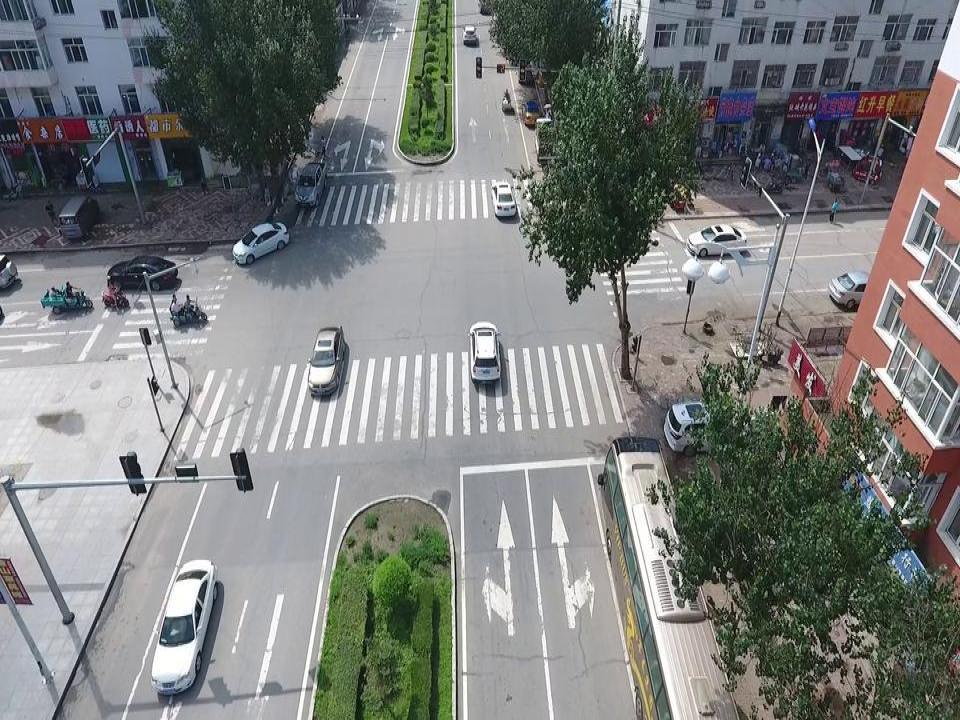bus: (597, 436, 743, 720)
car: (150, 558, 218, 694), (663, 400, 753, 457), (307, 323, 346, 396), (106, 254, 178, 290), (232, 222, 290, 266), (828, 272, 890, 309), (467, 322, 502, 386), (686, 224, 747, 257), (490, 182, 517, 218), (521, 99, 540, 126), (462, 26, 477, 46), (477, 0, 490, 15)
truck: (294, 161, 328, 208), (534, 117, 559, 167)
van: (58, 195, 99, 240)
